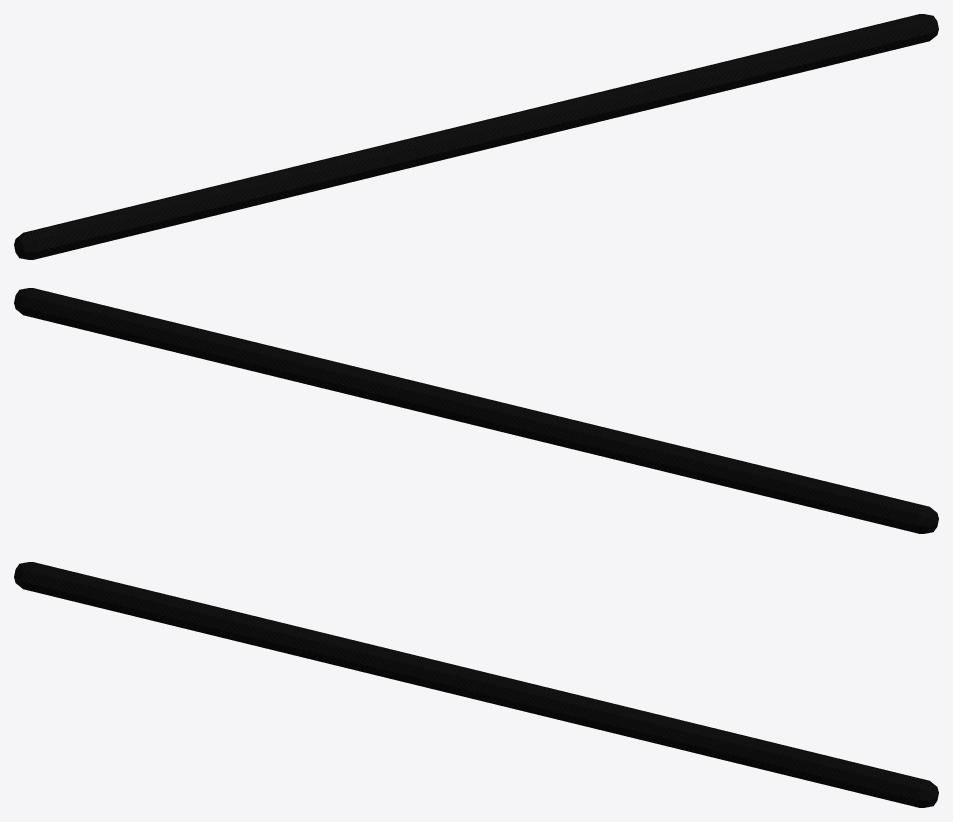
Rendered from CurtainRod.dae.
3 renders of one model, top to bottom at view 1: azimuth 30°, elevation 25°; view 2: azimuth 150°, elevation 25°; view 3: azimuth 330°, elevation 25°, orthographic.
Visible parts, largest first — view 1: SketchUp; view 2: SketchUp; view 3: SketchUp.
Boxes of the visible parts, bbox=[...] form: SketchUp: bbox=[14, 14, 938, 259]; SketchUp: bbox=[14, 288, 938, 533]; SketchUp: bbox=[14, 562, 938, 807].
Size of the model in its own units: 4152 by 117 by 117.
1 material, 1 textured.
